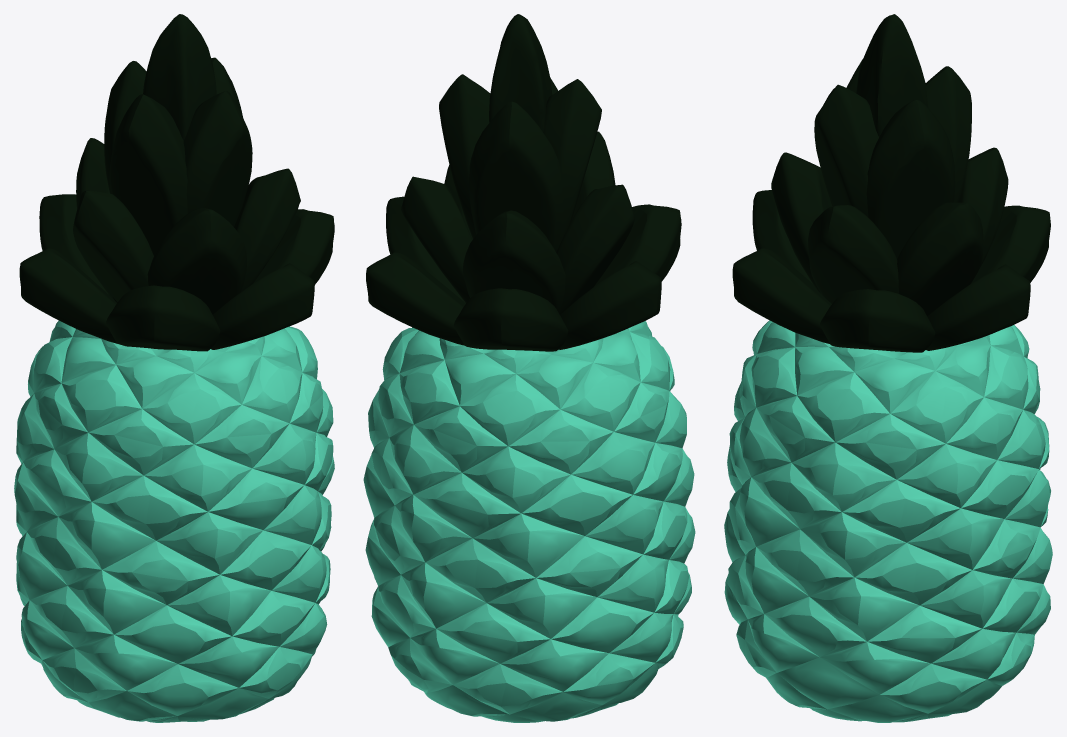
The picture shows the model from 3 angles, left to right: view 1: azimuth 30°, elevation 25°; view 2: azimuth 150°, elevation 25°; view 3: azimuth 270°, elevation 25°; orthographic projection.
Visible parts, largest first — view 1: Skin, Center_leaf; view 2: Skin, Center_leaf; view 3: Skin, Center_leaf.
Boxes of the visible parts, box(x1,y1,x2,y2) form: Skin: box(14, 320, 334, 722); Center_leaf: box(19, 14, 334, 351); Skin: box(363, 321, 695, 722); Center_leaf: box(366, 14, 681, 351); Skin: box(724, 320, 1052, 722); Center_leaf: box(732, 14, 1050, 352).
Size of the model in its own units: 17.34 by 16.76 by 37.77.
